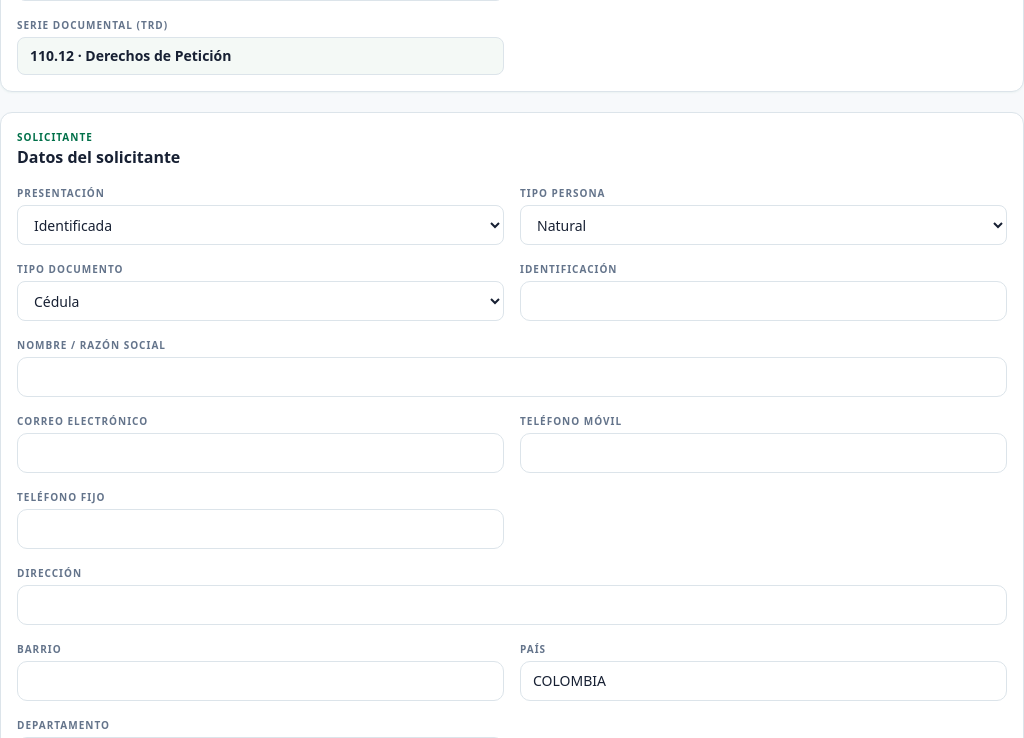
Test case: Solicitante frecuente — autocompletar en el formulario › cambiar a presentación Anónima oculta las sugerencias
(page scrolled)
Type "robinson" into the field labelled "Nombre / razón social" at (512, 377), box [17,357,1007,397]
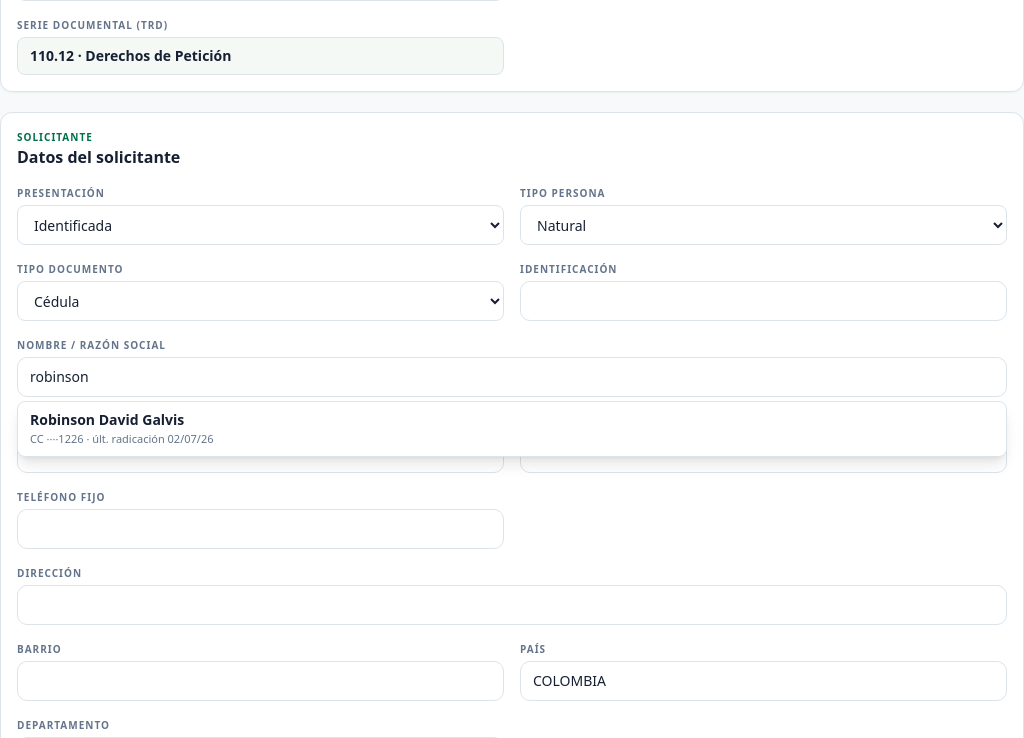
Expected: the list is shown, [17,401,1007,457]
Select "Anónima" in the dropdown labelled "Presentación" at (260, 225), box [17,205,504,245]
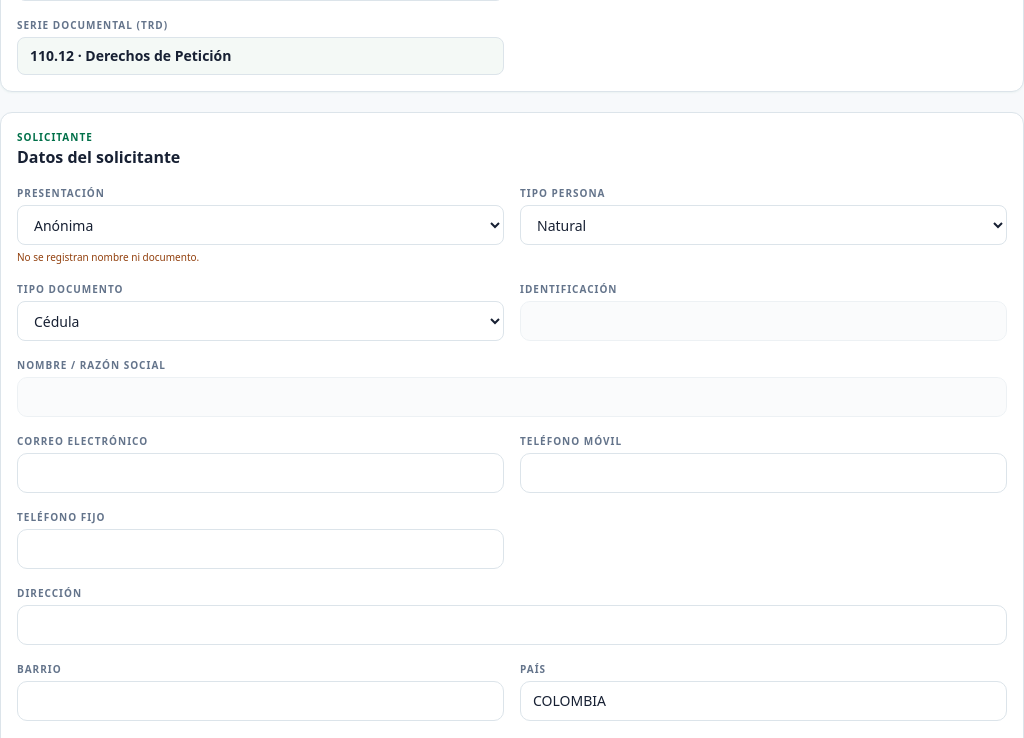
Expected: the list is gone
